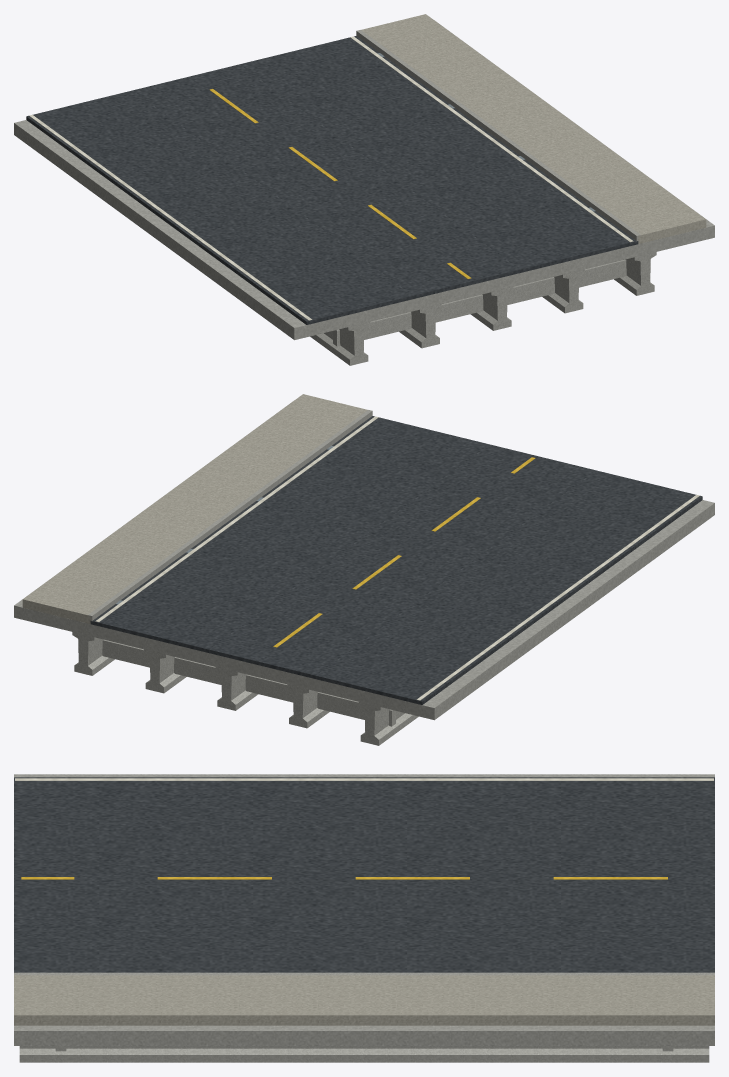
3 renders of one model, top to bottom at view 1: azimuth 30°, elevation 25°; view 2: azimuth 150°, elevation 25°; view 3: azimuth 270°, elevation 25°, orthographic. The views are drawn at different scales.
Visible parts, largest first — view 1: VIS_Drivable_Wearing_Surface_01, VIS_Protected_Walk_Deck_01, VIS_Slab_Structural_01, VIS_End_Diaphragm_02, VIS_Walk_Curb_01, VIS_I_Girder_01_01, VIS_Right_Edge_Paint_01, VIS_Left_Edge_Paint_01, VIS_I_Girder_03_01, VIS_I_Girder_05_01, VIS_I_Girder_02_01, VIS_I_Girder_04_01; view 2: VIS_Drivable_Wearing_Surface_01, VIS_Protected_Walk_Deck_01, VIS_Slab_Structural_01, VIS_End_Diaphragm_01, VIS_Walk_Curb_01, VIS_I_Girder_01_01, VIS_Right_Edge_Paint_01, VIS_Left_Edge_Paint_01, VIS_I_Girder_03_01, VIS_I_Girder_05_01, VIS_I_Girder_02_01, VIS_I_Girder_04_01; view 3: VIS_Drivable_Wearing_Surface_01, VIS_Protected_Walk_Deck_01, VIS_Slab_Structural_01, VIS_I_Girder_05_01, VIS_Walk_Curb_01, VIS_Left_Edge_Paint_01.
Boxes of the visible parts, x1,y1,x2,y2 form: VIS_Drivable_Wearing_Surface_01: (26, 36, 638, 324); VIS_Protected_Walk_Deck_01: (361, 14, 706, 243); VIS_Slab_Structural_01: (14, 21, 714, 340); VIS_End_Diaphragm_02: (333, 259, 626, 346); VIS_Walk_Curb_01: (356, 30, 640, 241); VIS_I_Girder_01_01: (310, 322, 370, 365); VIS_Right_Edge_Paint_01: (350, 36, 633, 242); VIS_Left_Edge_Paint_01: (29, 114, 312, 320); VIS_I_Girder_03_01: (470, 287, 513, 330); VIS_I_Girder_05_01: (614, 252, 656, 295); VIS_I_Girder_02_01: (399, 304, 441, 348); VIS_I_Girder_04_01: (542, 269, 584, 313); VIS_Drivable_Wearing_Surface_01: (90, 416, 702, 704); VIS_Protected_Walk_Deck_01: (22, 394, 367, 623); VIS_Slab_Structural_01: (14, 401, 714, 720); VIS_End_Diaphragm_01: (102, 639, 395, 726); VIS_Walk_Curb_01: (88, 410, 372, 621); VIS_I_Girder_01_01: (358, 702, 418, 745); VIS_Right_Edge_Paint_01: (95, 416, 378, 622); VIS_Left_Edge_Paint_01: (416, 494, 699, 700); VIS_I_Girder_03_01: (215, 667, 258, 710); VIS_I_Girder_05_01: (72, 632, 114, 675); VIS_I_Girder_02_01: (287, 684, 329, 728); VIS_I_Girder_04_01: (144, 649, 186, 693); VIS_Drivable_Wearing_Surface_01: (14, 777, 714, 972); VIS_Protected_Walk_Deck_01: (14, 975, 714, 1025); VIS_Slab_Structural_01: (14, 774, 714, 1045); VIS_I_Girder_05_01: (19, 1046, 709, 1062); VIS_Walk_Curb_01: (14, 972, 714, 975); VIS_Left_Edge_Paint_01: (15, 778, 713, 780).
Bounding box in the file's own units: 13.8 × 1.95 × 15.94.
Materials: 6 (6 with a texture image).
